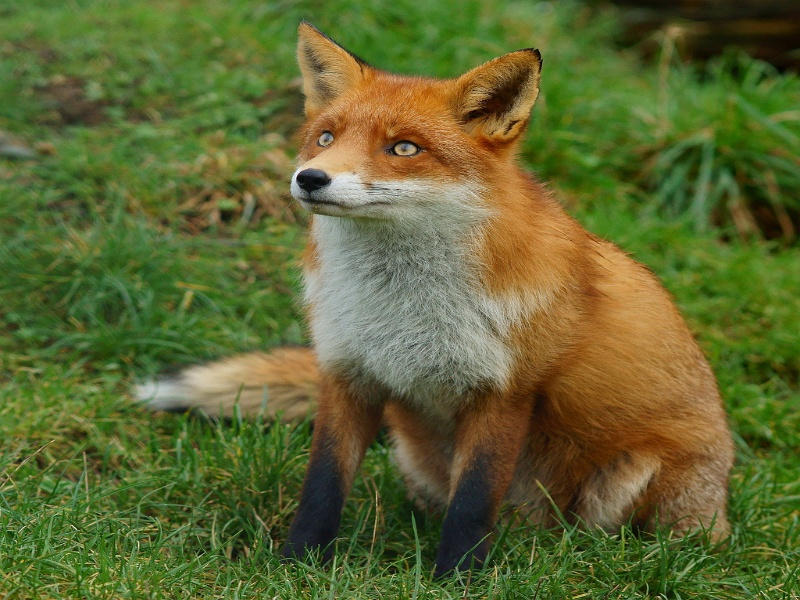fox: (98, 22, 752, 586)
